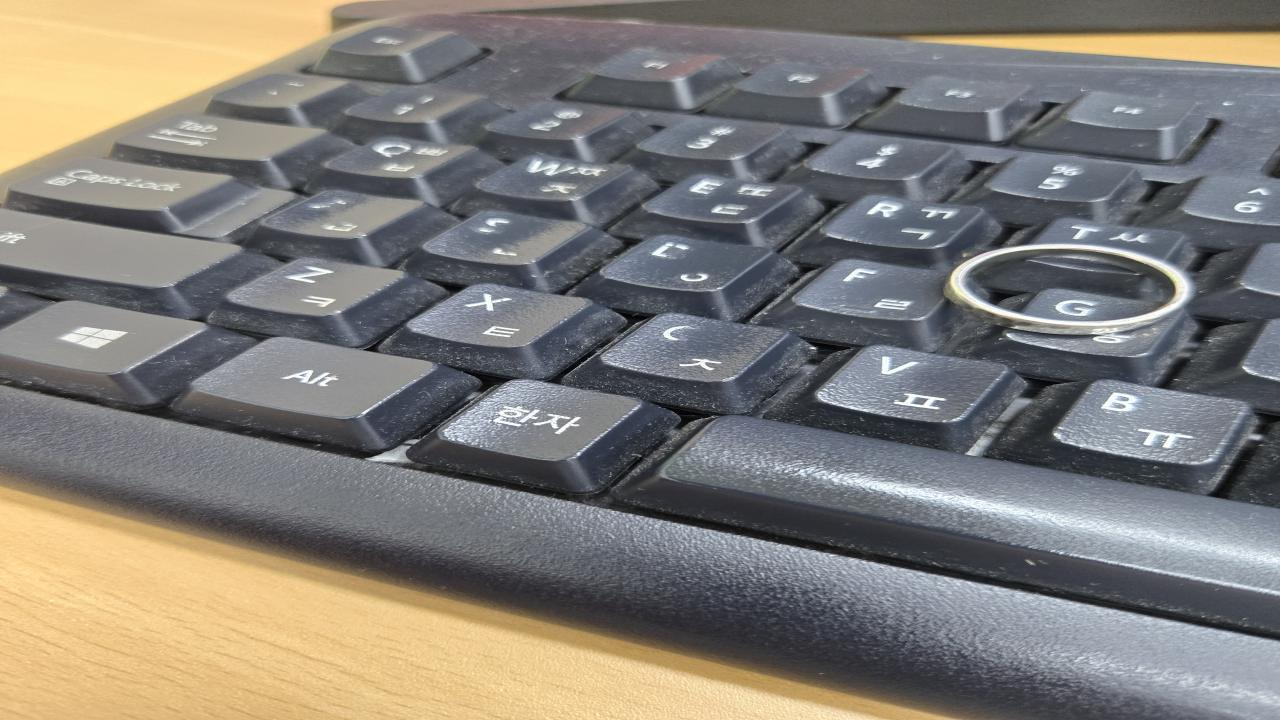ring: (949, 244, 1193, 338)
